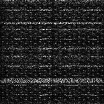lte: (1, 78, 104, 83), (1, 22, 104, 24)
